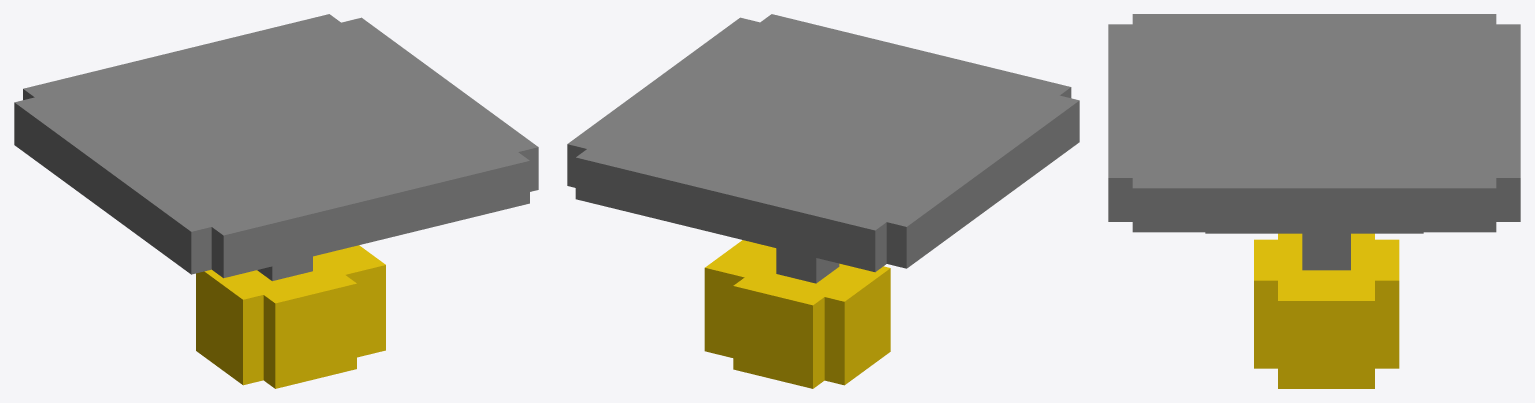
File: SchoolPack-13-light bulb.obj
The picture shows the model from 3 angles, left to right: view 1: azimuth 30°, elevation 25°; view 2: azimuth 150°, elevation 25°; view 3: azimuth 270°, elevation 25°; orthographic projection. The views are drawn at different scales.
Parts seen in each view (by area): view 1: light bulb; view 2: light bulb; view 3: light bulb.
Part boxes in pixels (box(x1,y1,x2,y2)): light bulb: box(14, 14, 538, 388); light bulb: box(567, 14, 1079, 388); light bulb: box(1108, 14, 1520, 388).
Size of the model in its own units: 1.7 by 1.1 by 1.7.
Materials: 1 (1 with a texture image).
